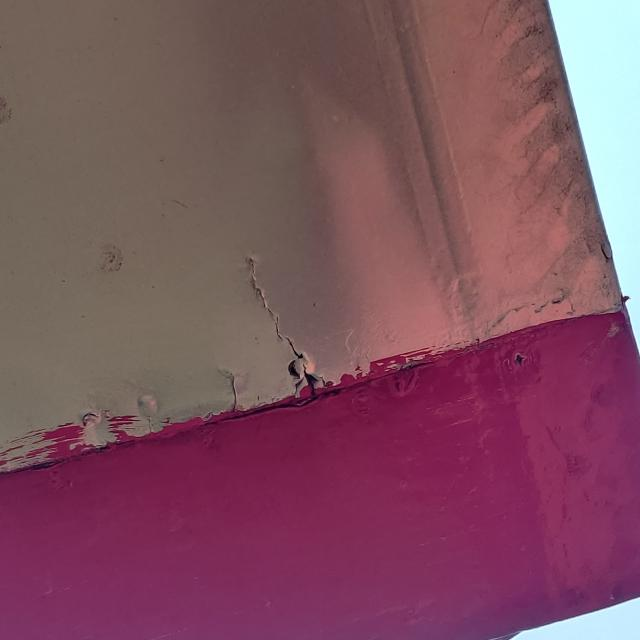crack: (239, 247, 338, 405), (212, 362, 252, 420)
